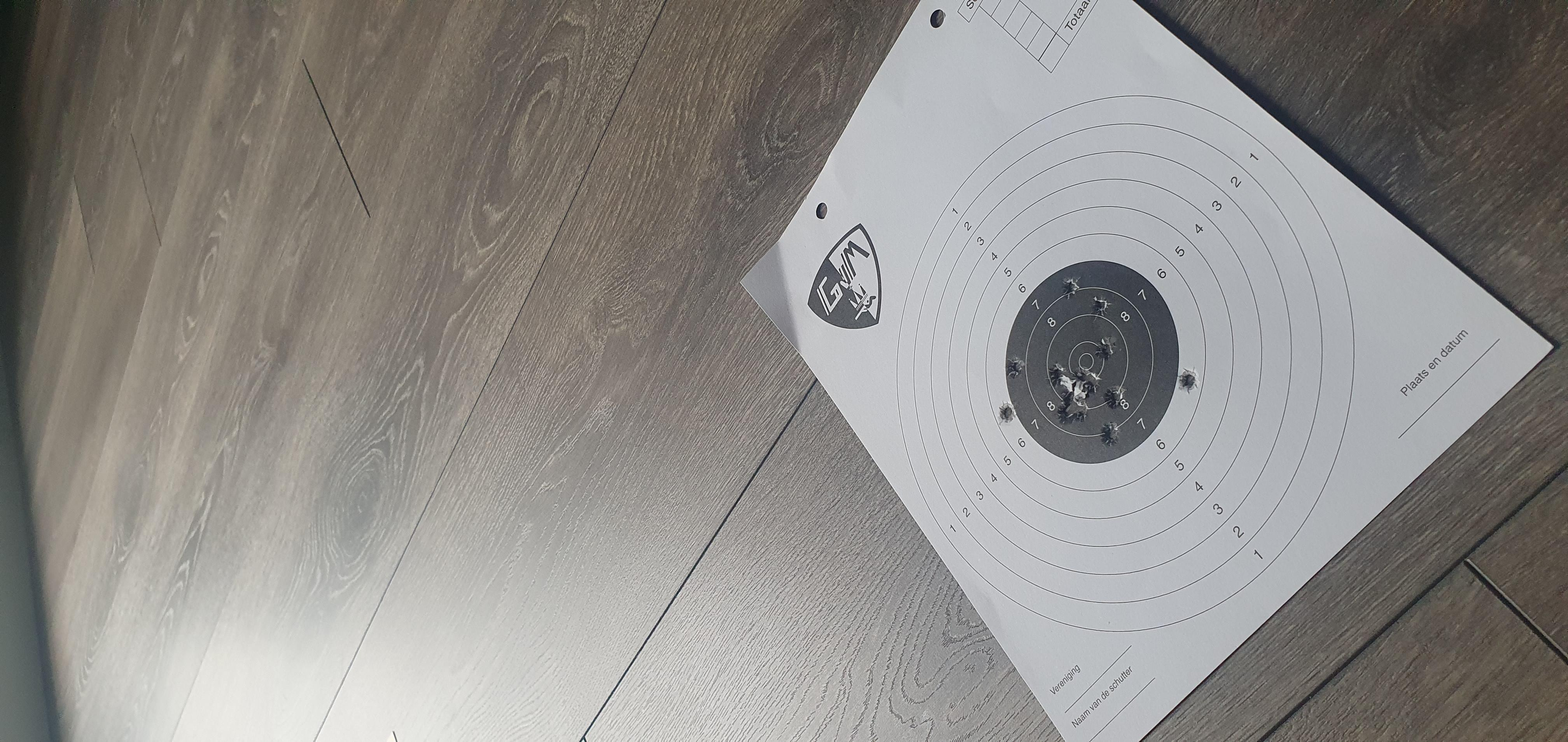hole: (733, 556, 793, 568), (935, 501, 989, 513), (702, 521, 755, 533), (803, 518, 858, 529), (618, 521, 676, 531), (673, 500, 730, 509), (764, 477, 819, 486), (898, 515, 943, 526), (753, 495, 796, 506), (669, 472, 720, 481), (680, 508, 722, 516), (747, 512, 782, 521), (754, 507, 787, 513)
